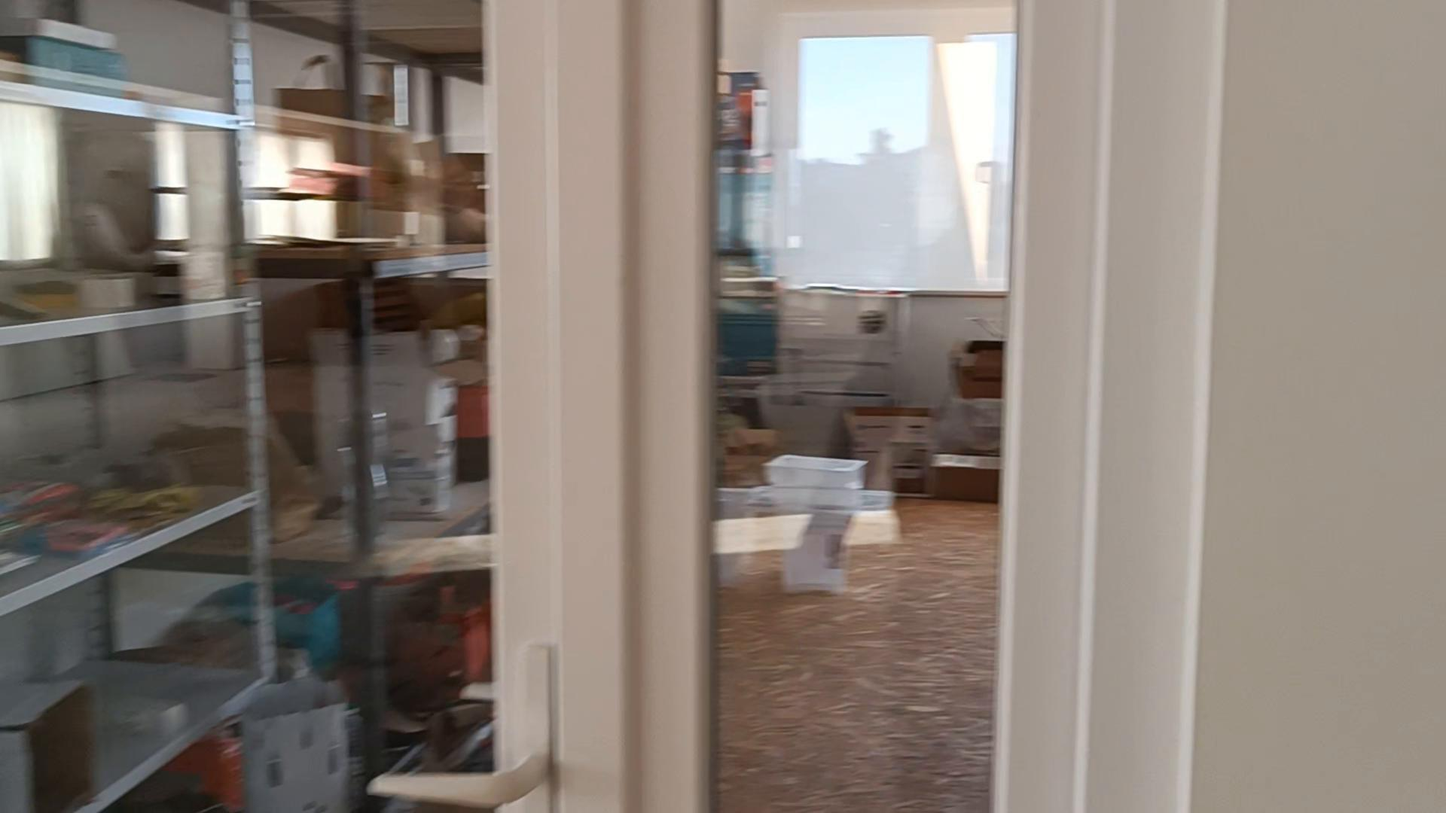floor: (717, 499, 999, 812)
wall: (0, 0, 1445, 812)
